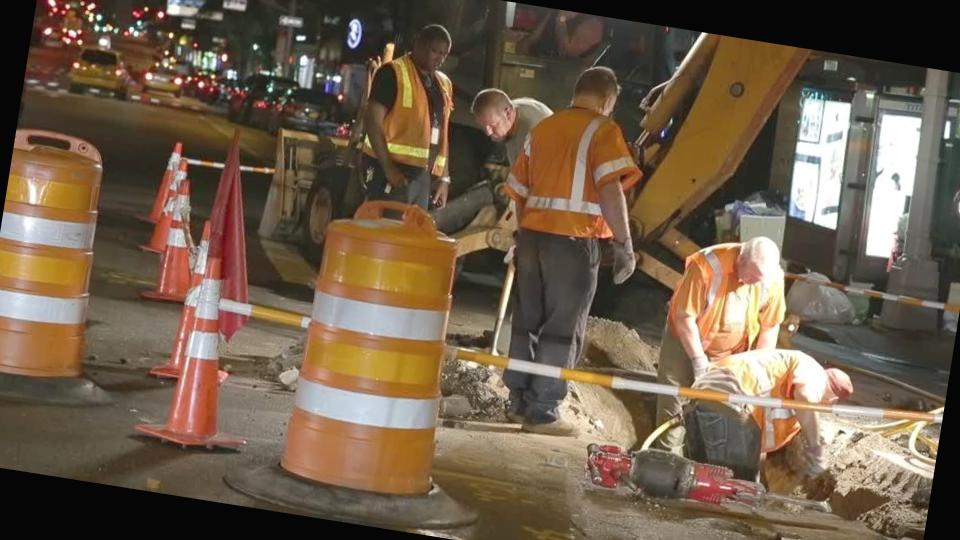person: (466, 46, 674, 448), (668, 340, 858, 500), (346, 9, 478, 222), (660, 210, 802, 360)
